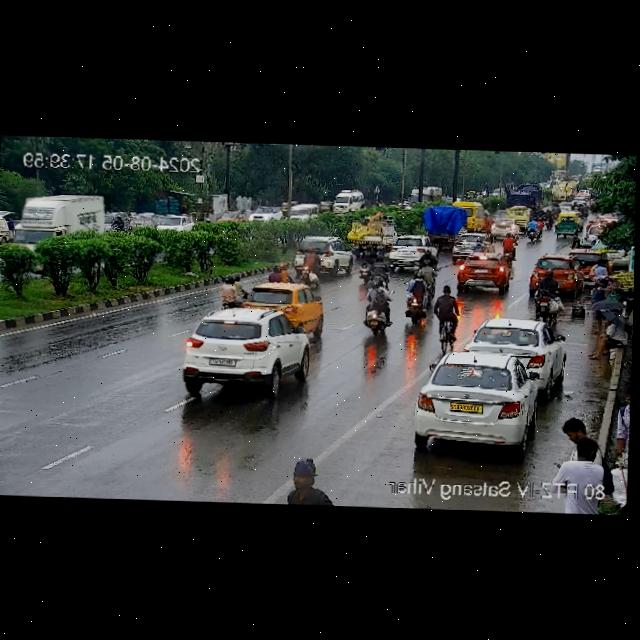bus: (451, 200, 485, 233), (332, 188, 363, 215)
car: (171, 307, 311, 396), (416, 356, 544, 450), (465, 316, 561, 378), (240, 283, 330, 333), (454, 255, 510, 293), (384, 235, 440, 264), (157, 213, 194, 233), (250, 203, 283, 223), (287, 201, 318, 222), (554, 212, 580, 236), (488, 216, 516, 237), (215, 209, 247, 225), (507, 206, 532, 226), (316, 199, 335, 215)
motorcycle: (357, 277, 393, 334), (402, 275, 432, 325), (530, 268, 564, 310), (436, 285, 457, 343), (291, 244, 323, 281), (214, 277, 244, 307), (356, 245, 375, 280), (501, 233, 518, 258), (526, 219, 545, 241), (545, 210, 552, 229)
person: (556, 414, 610, 492), (585, 306, 633, 362), (609, 386, 631, 476), (589, 258, 609, 296), (565, 228, 582, 250)
truck: (8, 193, 117, 248), (346, 212, 399, 253), (422, 205, 465, 244), (502, 183, 545, 208), (406, 184, 443, 211)
